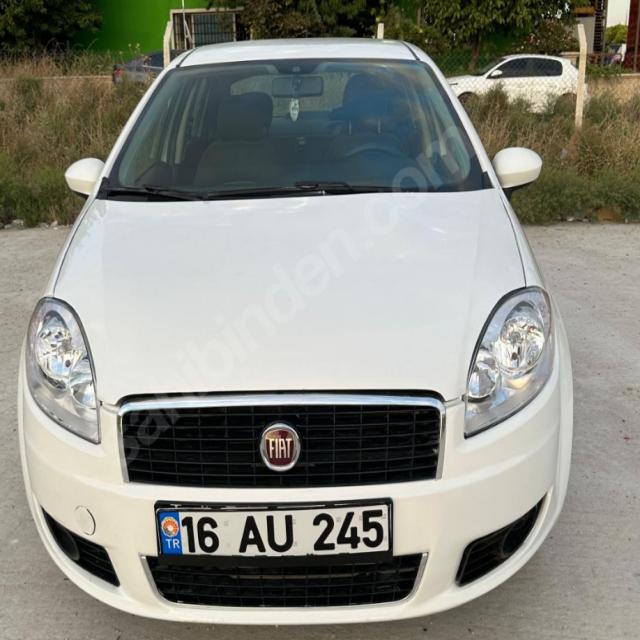fiat: (243, 412, 319, 480)
